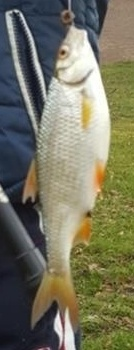Rutilus rutilus: (20, 20, 114, 330)
